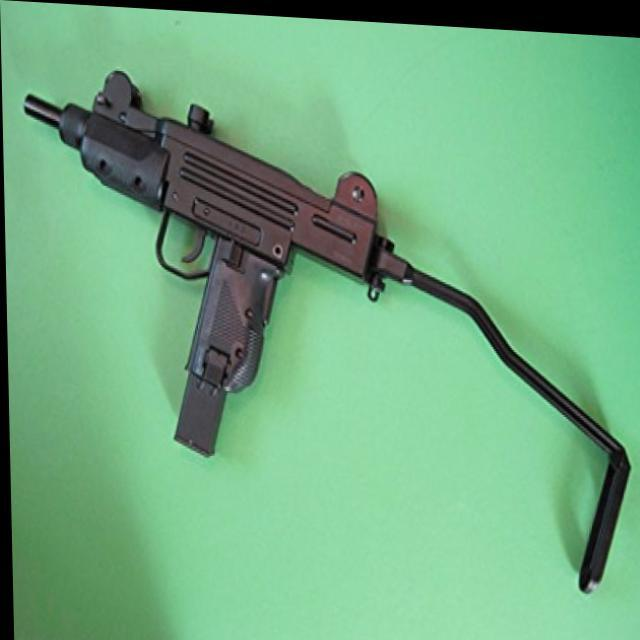weapon: (21, 61, 632, 586)
